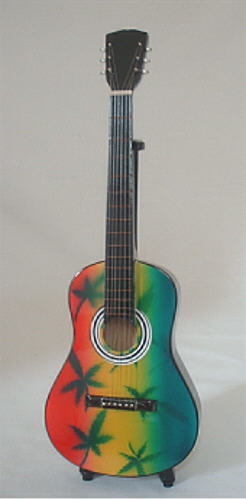guitar: (44, 30, 206, 476)
